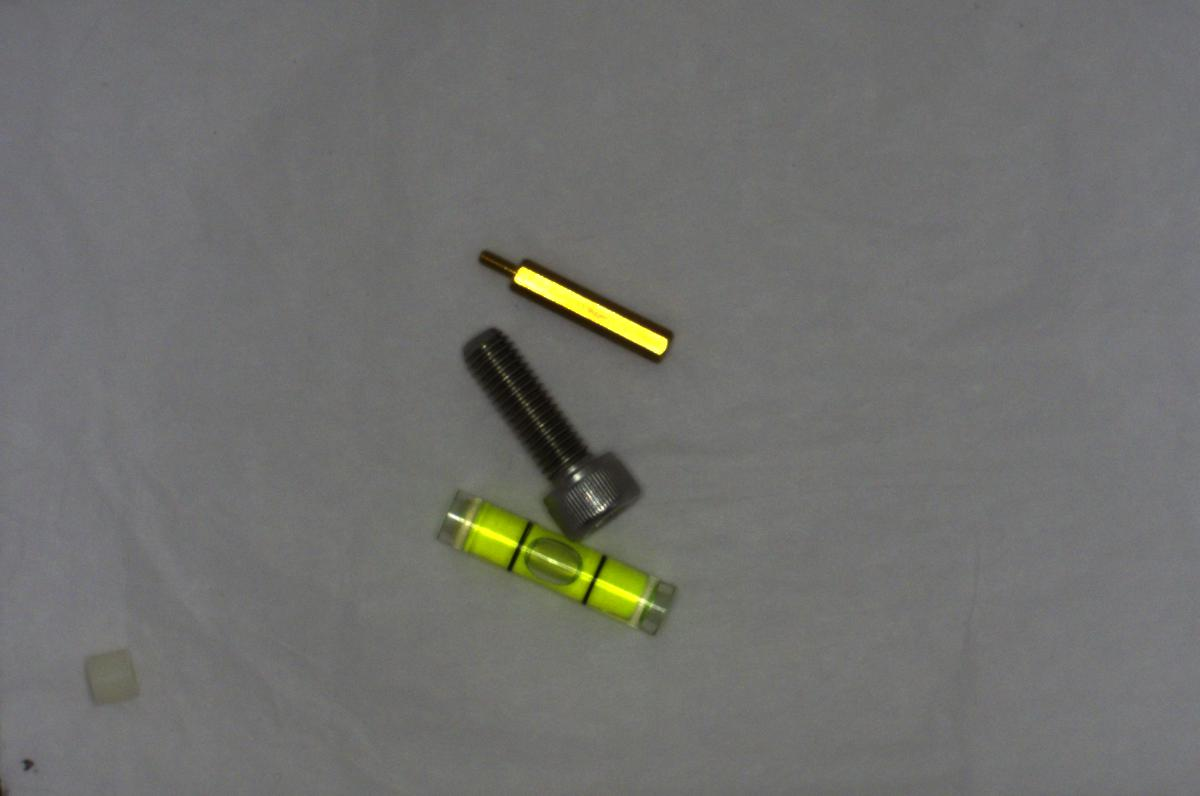Hexagon pillar: (465, 240, 670, 366)
Hexagon screw: (461, 321, 650, 541)
Horizontal bubble: (428, 485, 675, 634)
Plastic cushion pillar: (74, 642, 151, 714)
